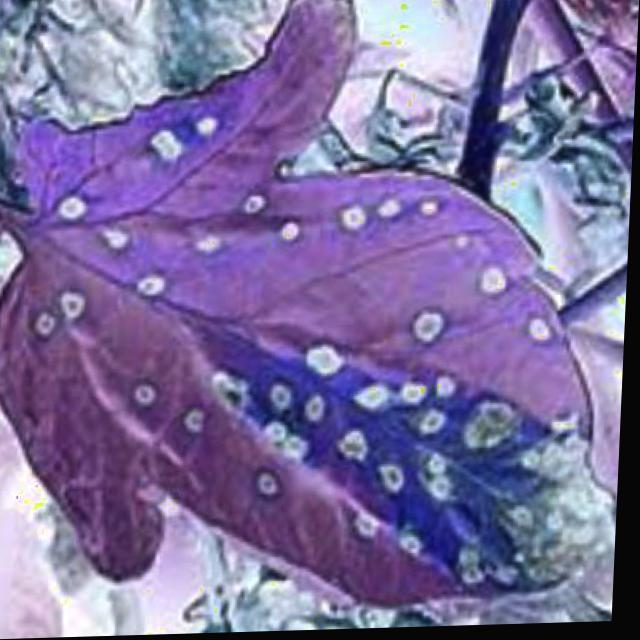Tomato Septoria spot leaf: (0, 0, 639, 634)
